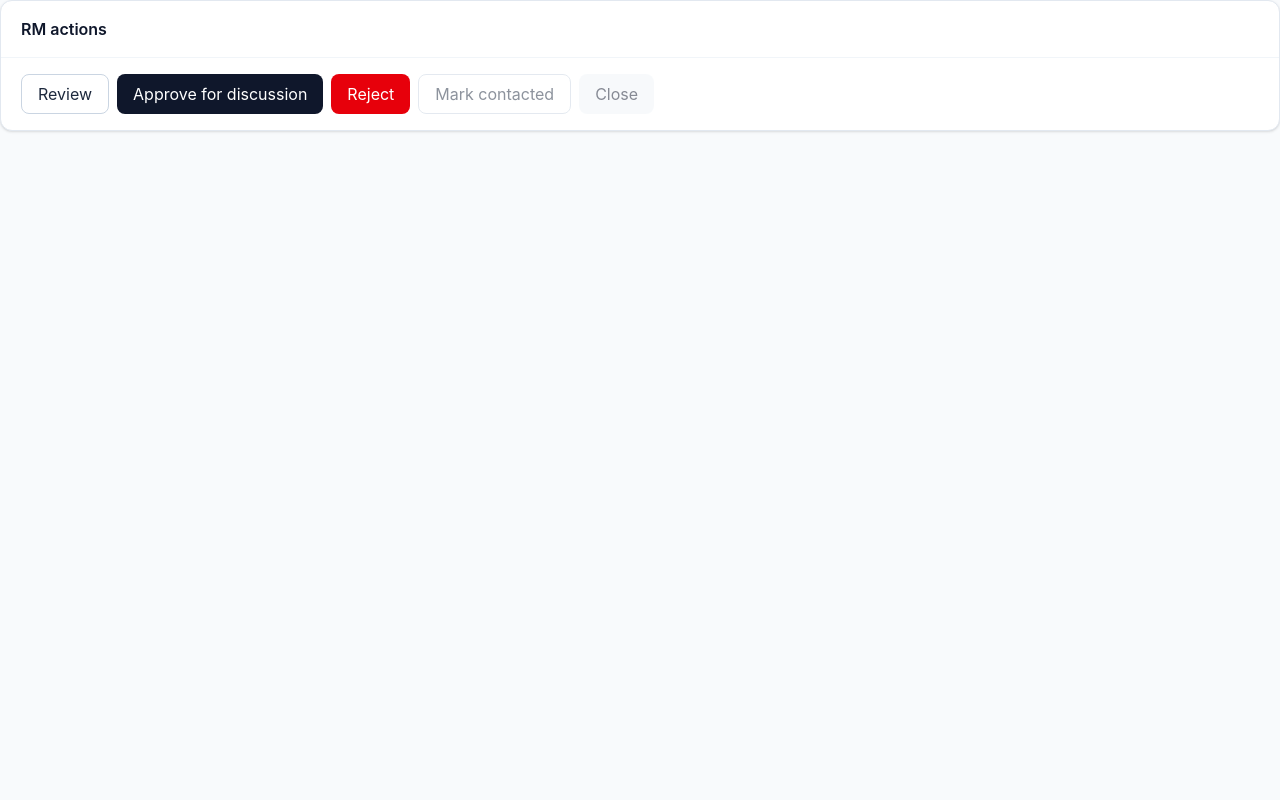
Test case: Security UI rendering › approval disclaimer is visible in RM action dialog
Click the button "Approve for discussion". click: (220, 94)
box: [117,74,323,114]
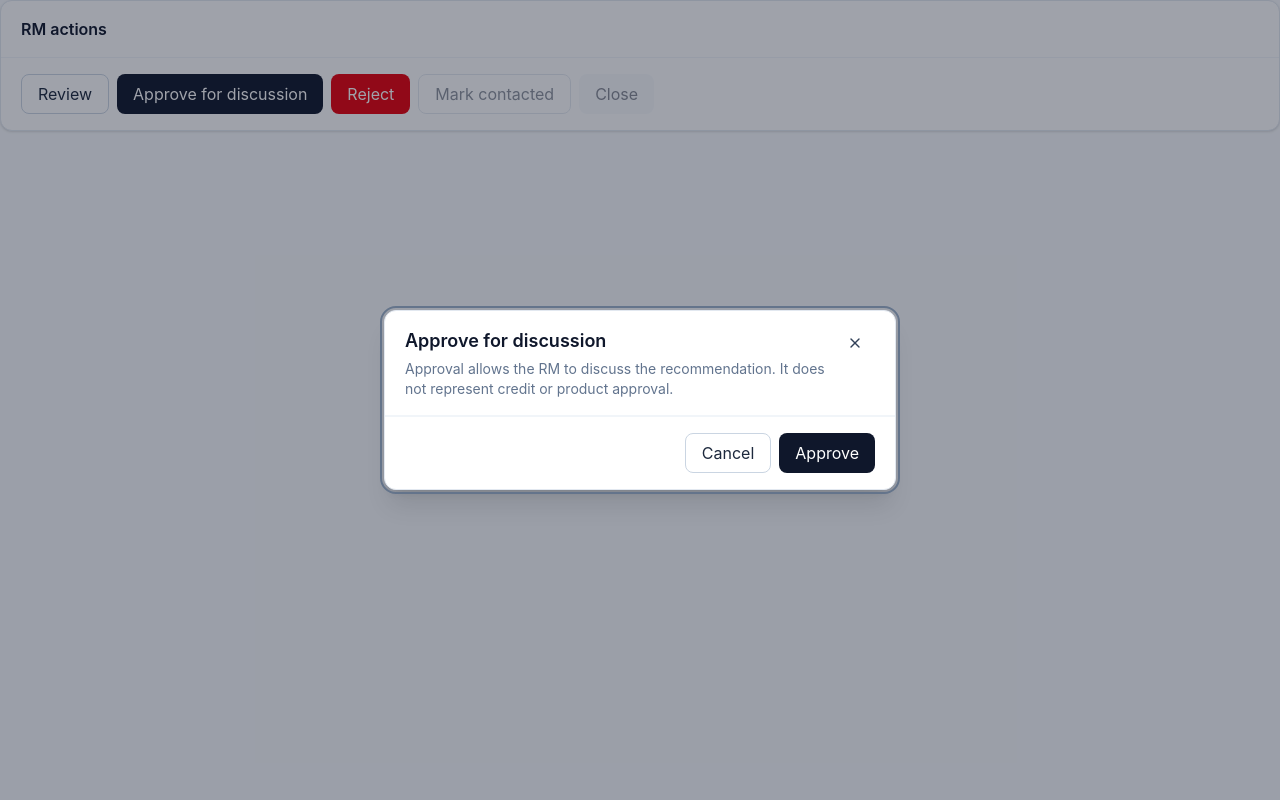
expect the dialog shows "It does not represent credit or product approval": met, box [405,360,825,397]
